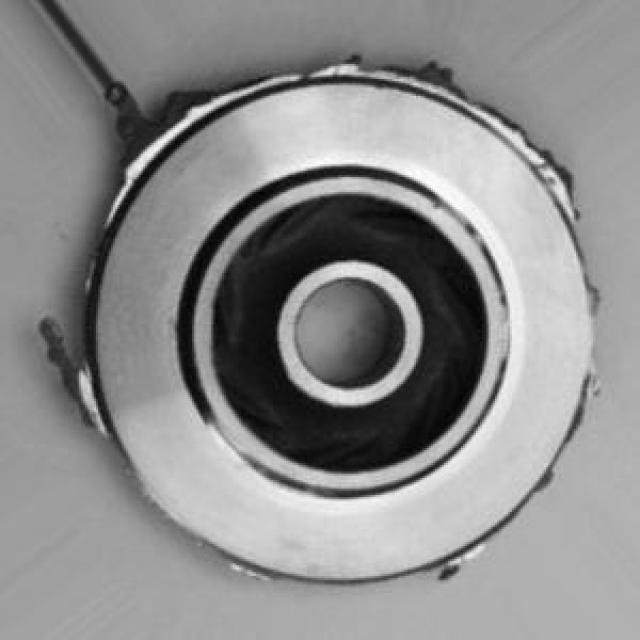Defect: (52, 20, 176, 167), (36, 309, 110, 438), (412, 57, 462, 91)
